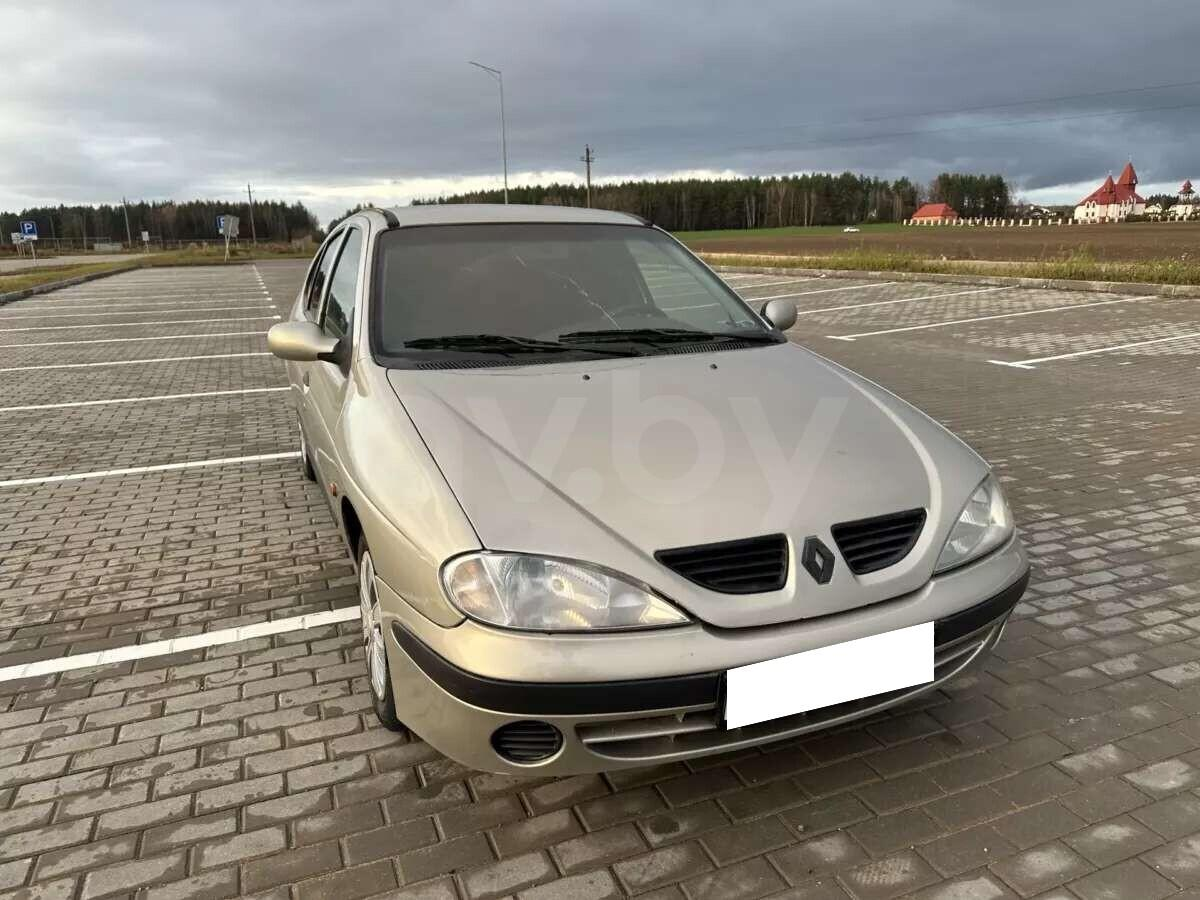Megane_1999-2003: (264, 199, 1034, 770)
